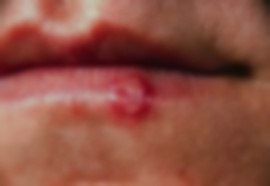Ulcer: (108, 73, 145, 115)
